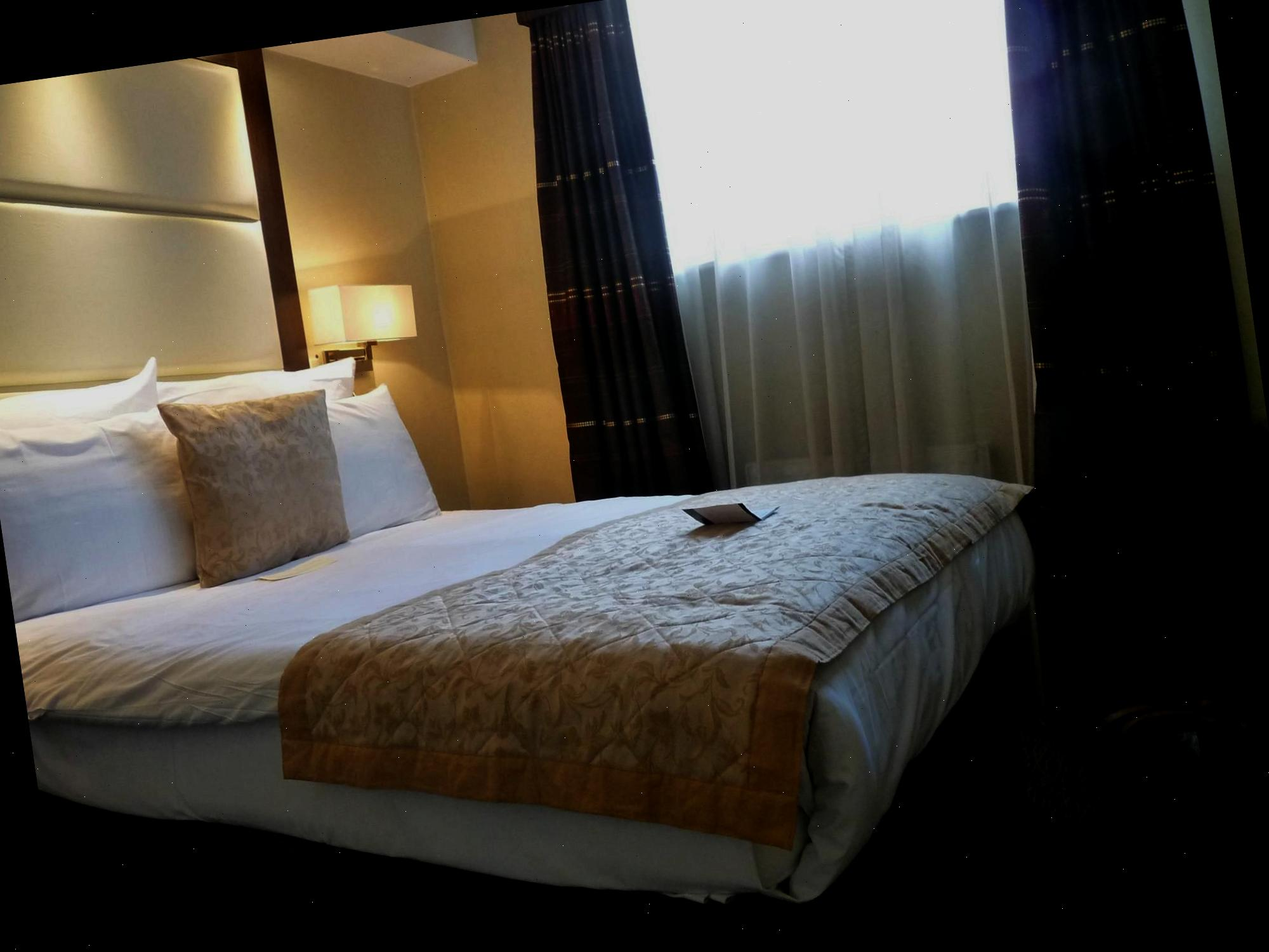clean_bed: (0, 329, 1030, 949)
organised_pillow: (0, 350, 450, 628)
